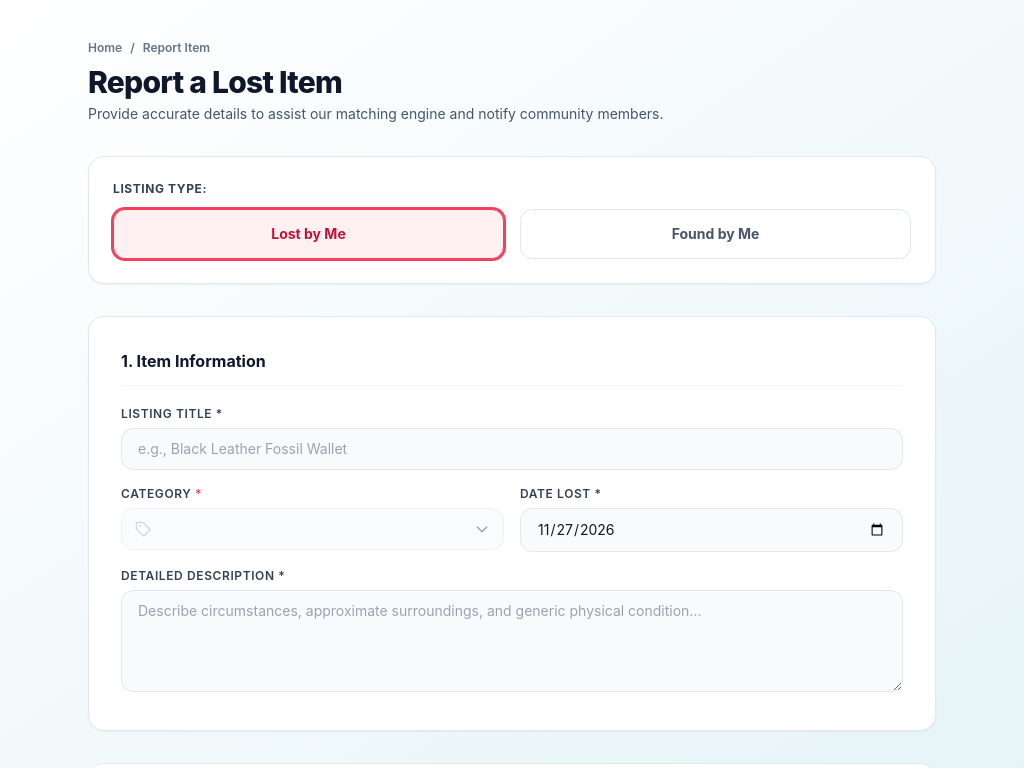
Test case: Report Item Page - Creation and Validation › switches between Lost and Found mode dynamically
The width and height of the screenshot is (1024, 768).
Expected: the heading "Report a Lost Item" is shown, left=88, top=64, right=342, bottom=100
Expected: the text "Privacy & Security Warning:" is not shown
Click the button "Found by Me" at (716, 234), box left=520, top=209, right=911, bottom=259
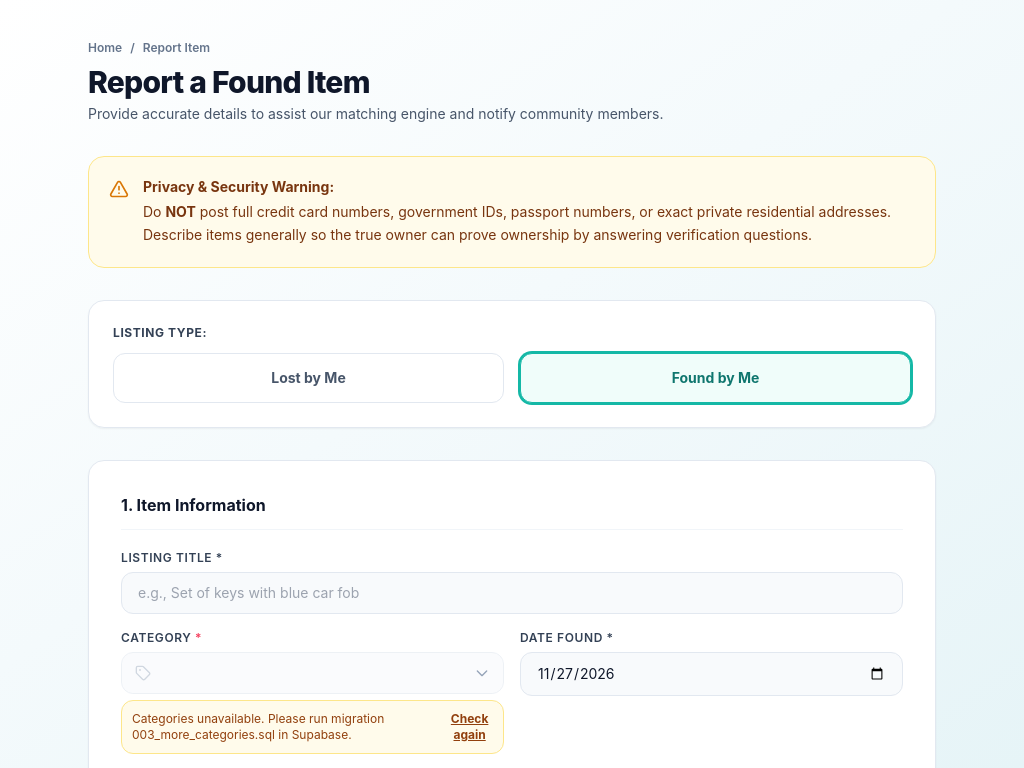
Now the heading "Report a Found Item" is shown, box left=88, top=64, right=370, bottom=100
Now the text "Privacy & Security Warning:" is shown, box left=143, top=178, right=334, bottom=195
Now the text "post full credit card numbers" is shown, box left=143, top=203, right=891, bottom=243
